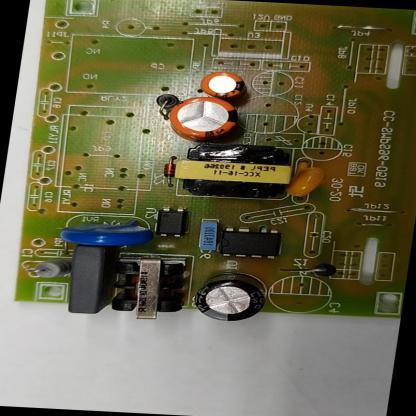Cap1: (167, 94, 242, 140)
Cap2: (198, 70, 244, 98)
Cap3: (191, 269, 268, 325)
MOSFET: (220, 226, 286, 258)
Mov: (58, 220, 152, 250)
Resistor: (28, 258, 72, 279)
Transformer: (171, 141, 294, 201), (110, 257, 184, 321)
